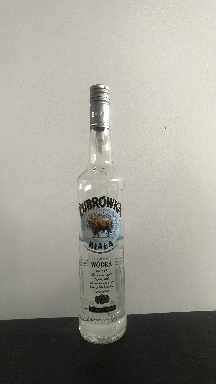butelka: (75, 81, 128, 346)
